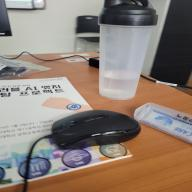mouse: (49, 110, 142, 151)
